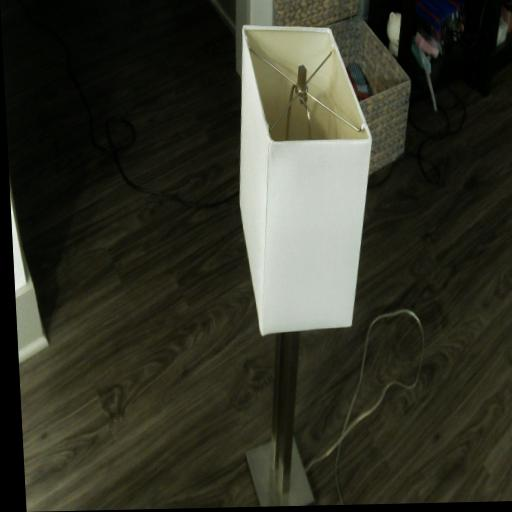lamp: (223, 21, 391, 507)
